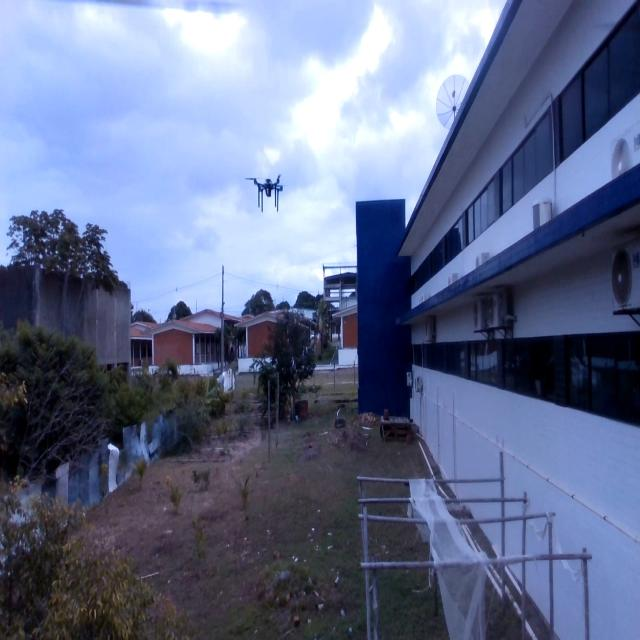-uav-: (244, 161, 288, 221)
